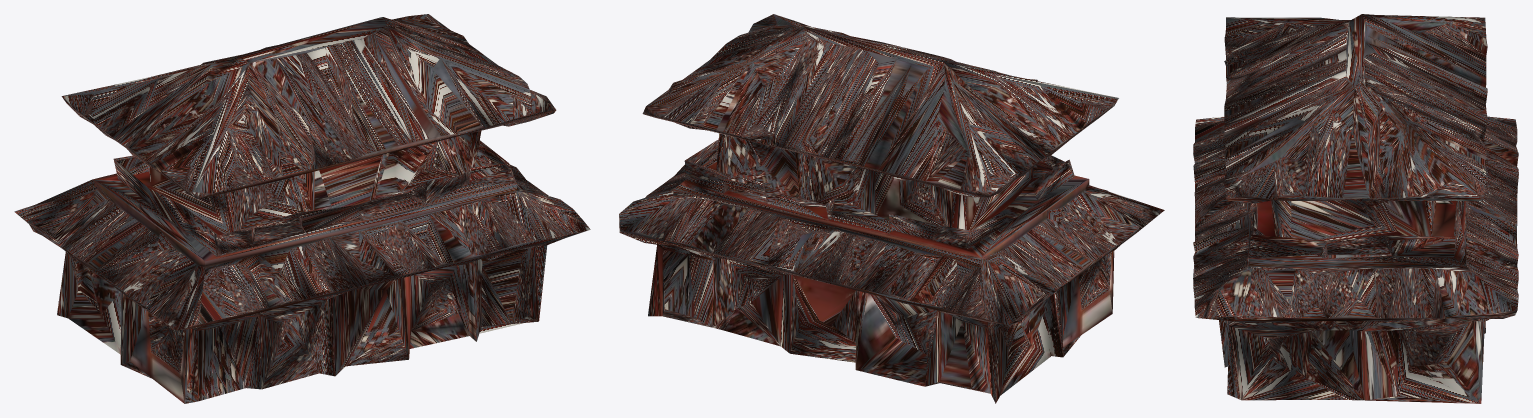
File: louge_lod2.glb
The picture shows the model from 3 angles, left to right: view 1: azimuth 30°, elevation 25°; view 2: azimuth 150°, elevation 25°; view 3: azimuth 270°, elevation 25°; orthographic projection. The views are drawn at different scales.
Visible parts, largest first — view 1: node_0; view 2: node_0; view 3: node_0.
Boxes of the visible parts, x1,y1,x2,y2 form: node_0: (14,14,590,403); node_0: (619,14,1164,403); node_0: (1193,14,1518,403).
Size of the model in its own units: 19.37 by 12.37 by 13.22.
Materials: 1 (1 with a texture image).
